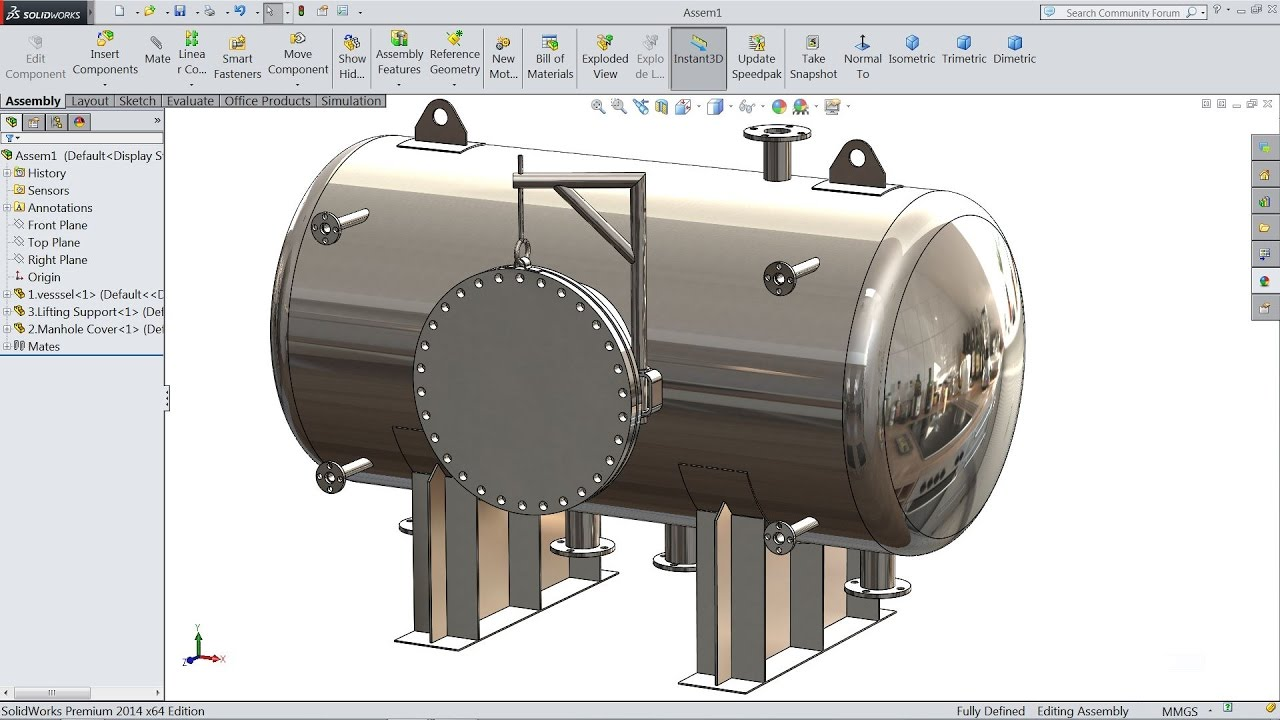nozzle: (730, 123, 815, 180), (841, 545, 918, 607), (539, 510, 623, 565)
